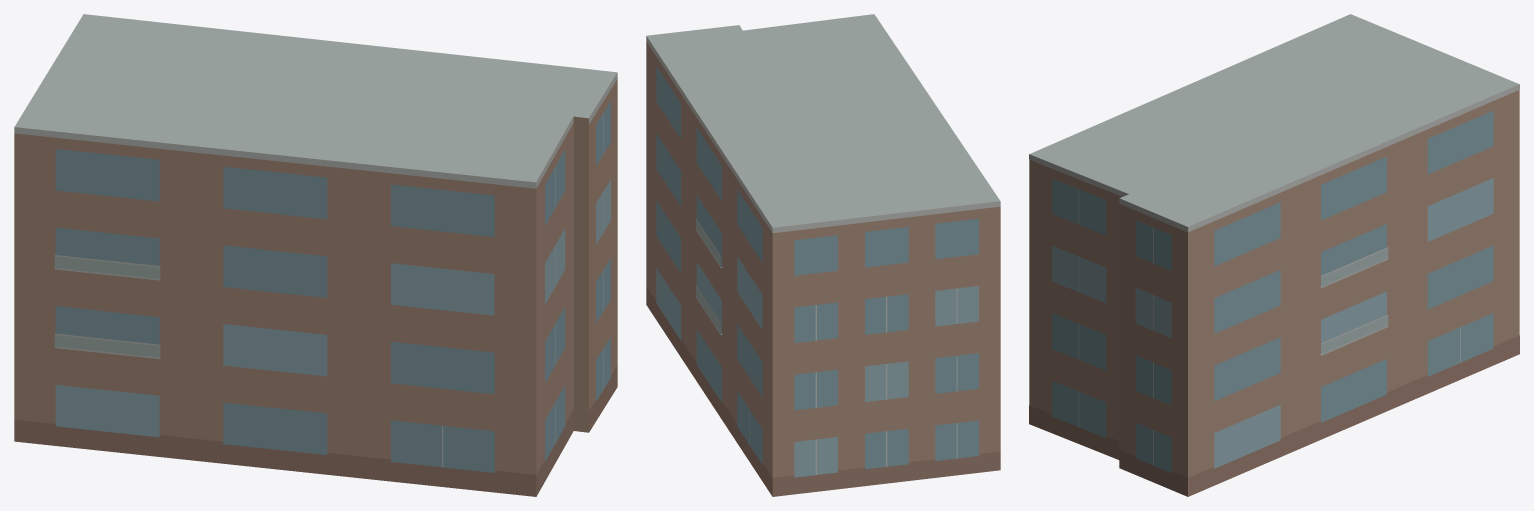
The model's file is survey-upis-32705419.glb.
The picture shows the model from 3 angles, left to right: view 1: azimuth 30°, elevation 25°; view 2: azimuth 150°, elevation 25°; view 3: azimuth 270°, elevation 25°; orthographic projection. The views are drawn at different scales.
Visible parts, largest first — view 1: survey-upis-32705419.tmp; view 2: survey-upis-32705419.tmp; view 3: survey-upis-32705419.tmp.
Part boxes in pixels (<box>): survey-upis-32705419.tmp: <box>14,14,617,496</box>; survey-upis-32705419.tmp: <box>646,14,1000,496</box>; survey-upis-32705419.tmp: <box>1029,14,1519,496</box>.
Size of the model in its own units: 20.66 by 12.2 by 20.11.
